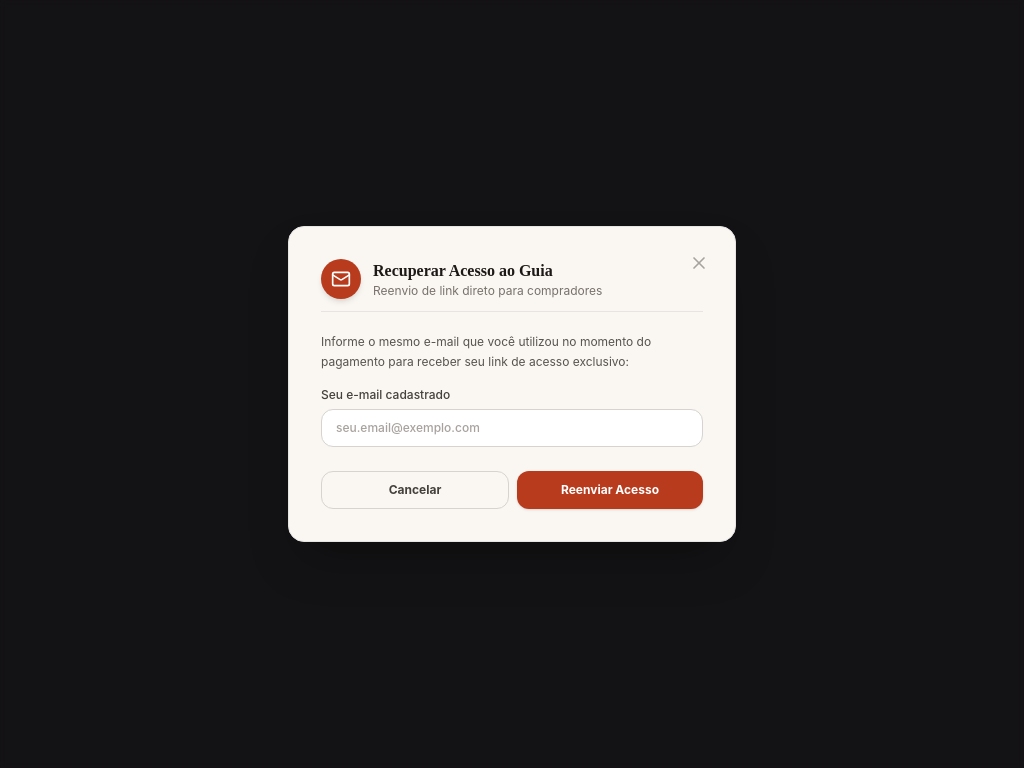
Test: NORQVA — RecoveryRequestModal UI Error Contract Suite › 2. HTTP 429: Does NOT show success screen; displays rate limit message
In the field with placeholder "seu.email@exemplo.com": (512, 428) [321,409,703,447], type "cliente@example.com"
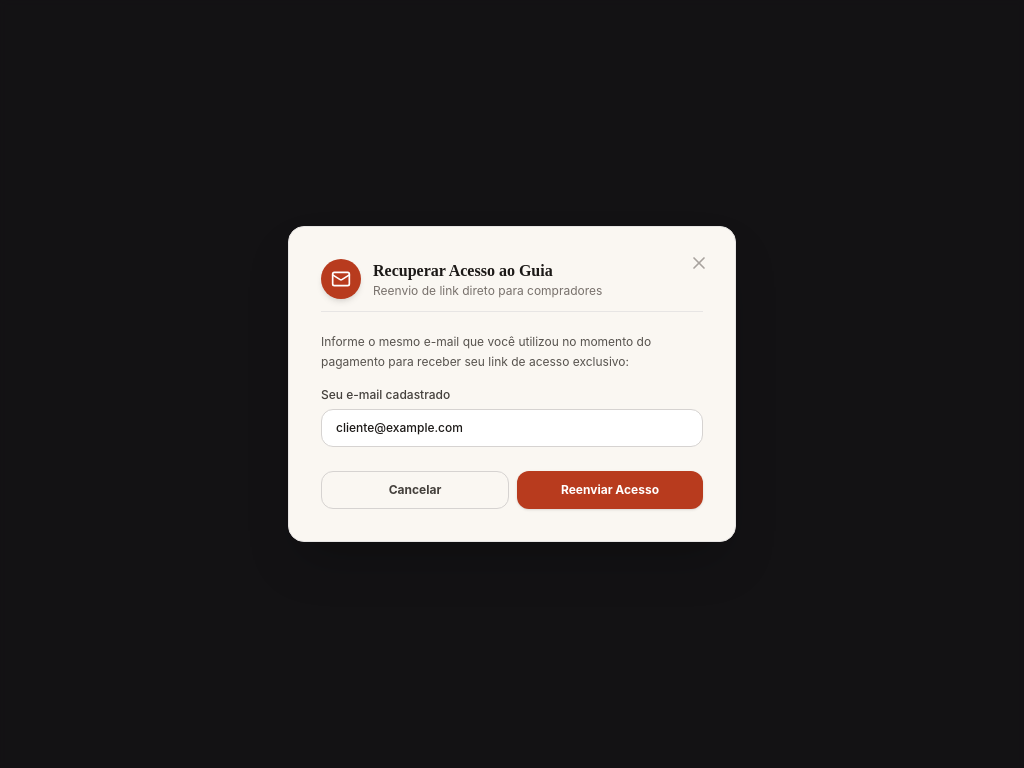
Click the button "Reenviar Acesso": (610, 490) [517,471,703,509]
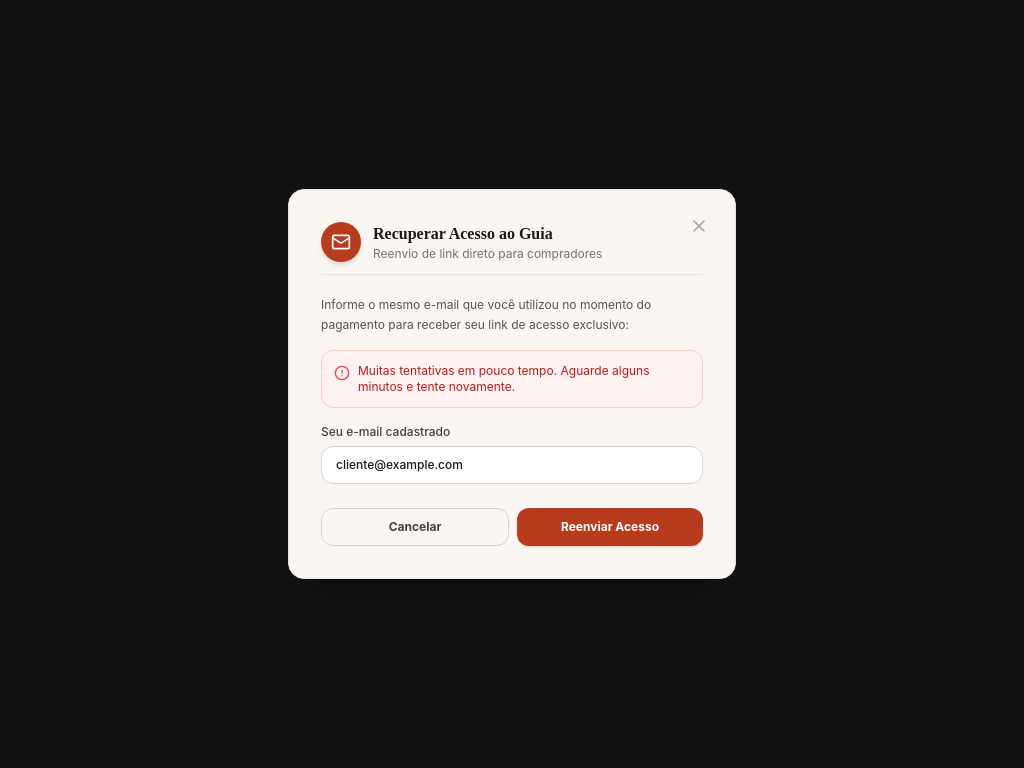
Expected: the text "Muitas tentativas em pouco tempo. Aguarde alguns minutos e tente novamente." is shown, [358,363,690,395]
